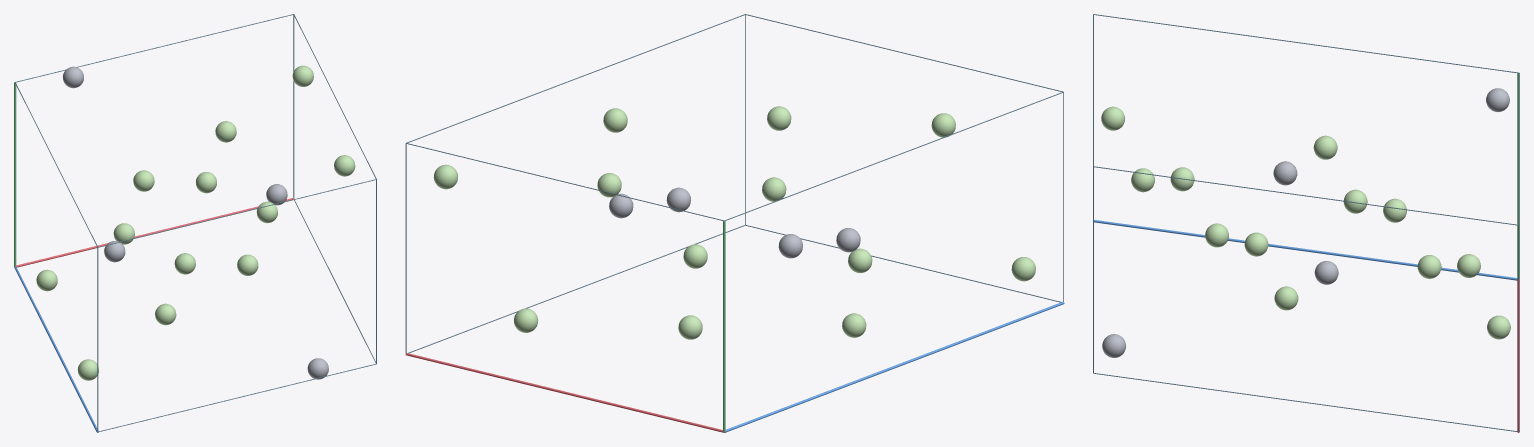
File: cod-8104000.glb
The picture shows the model from 3 angles, left to right: view 1: azimuth 30°, elevation 25°; view 2: azimuth 150°, elevation 25°; view 3: azimuth 270°, elevation 25°; orthographic projection. The views are drawn at different scales.
Parts seen in each view (by area): view 1: Ô mạng và các trục a, b, c, I2 · I · 1 (×4), I3 · I · 1 (×4), I1 · I · 1 (×4), Al1 · Al · 1 (×4); view 2: Ô mạng và các trục a, b, c; view 3: Ô mạng và các trục a, b, c, I2 · I · 1 (×4), Al1 · Al · 1 (×4), I3 · I · 1 (×4), I1 · I · 1 (×4).
Part boxes in pixels (<box>): Ô mạng và các trục a, b, c: <box>14,14,376,432</box>; I2 · I · 1 (×4): <box>133,170,258,275</box>; I3 · I · 1 (×4): <box>36,65,355,380</box>; I1 · I · 1 (×4): <box>113,121,277,325</box>; Al1 · Al · 1 (×4): <box>63,66,328,379</box>; Ô mạng và các trục a, b, c: <box>405,14,1064,432</box>; Ô mạng và các trục a, b, c: <box>1093,14,1519,432</box>; I2 · I · 1 (×4): <box>1101,106,1510,339</box>; Al1 · Al · 1 (×4): <box>1102,88,1509,357</box>; I3 · I · 1 (×4): <box>1131,168,1480,277</box>; I1 · I · 1 (×4): <box>1170,167,1441,278</box>.
Size of the model in its own units: 13.32 by 6.69 by 11.36.
